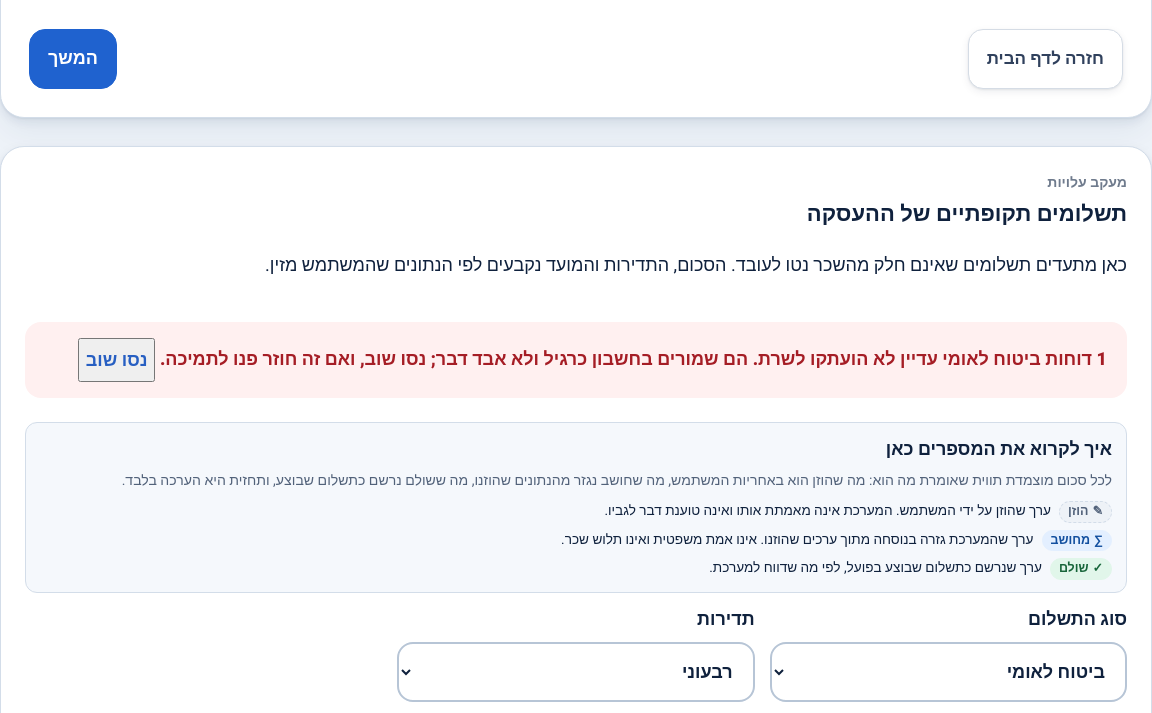
Scenario: PayrollPage - National Insurance report copy › shows a copy that failed, and tries again when asked
This screenshot has width=1152, height=713.
(page scrolled)
Check: the text "1 דוחות ביטוח לאומי עדיין לא הועתקו לשרת" shows "לא אבד דבר", box [160,346,1107,374]
Click the button "נסו שוב".
click(117, 360)  # box [78,338,156,382]
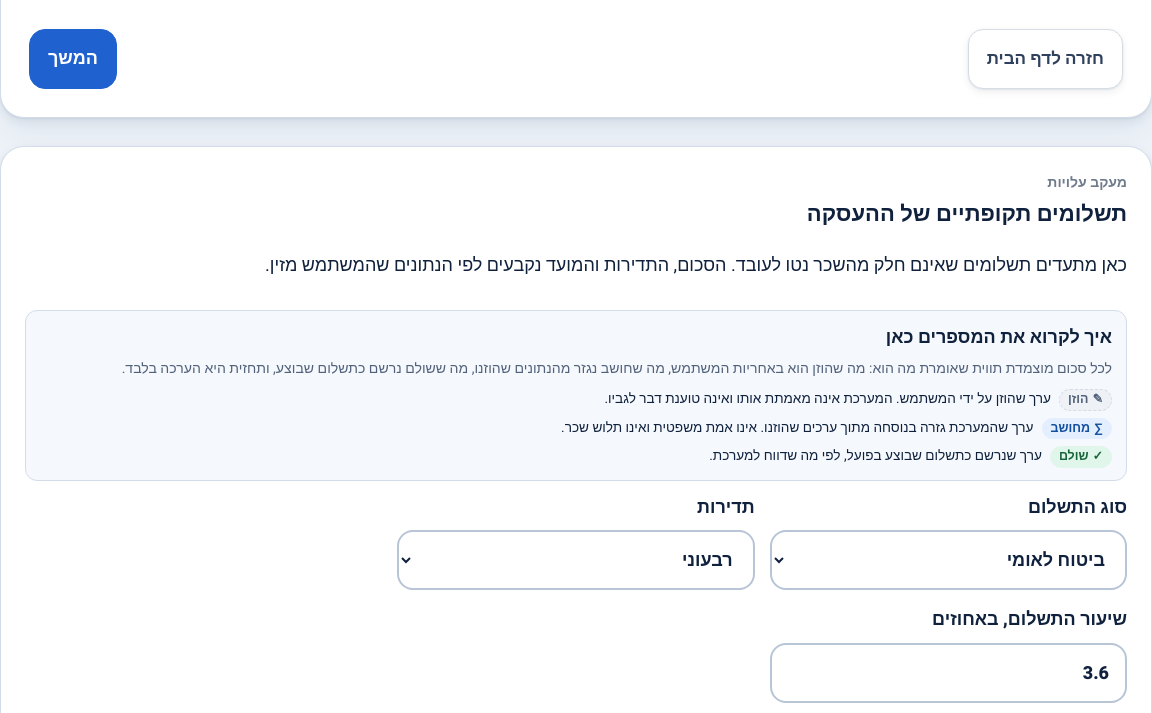
Check: the text "לא הועתקו לשרת" is gone
